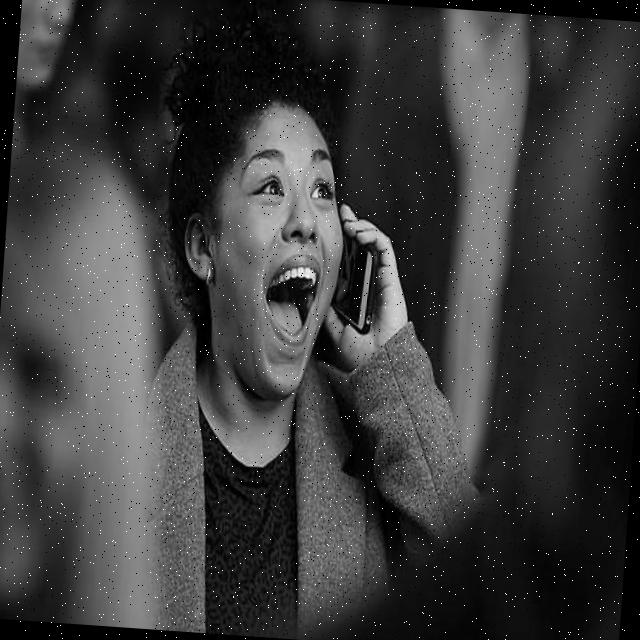Surprised: (205, 100, 353, 404)
